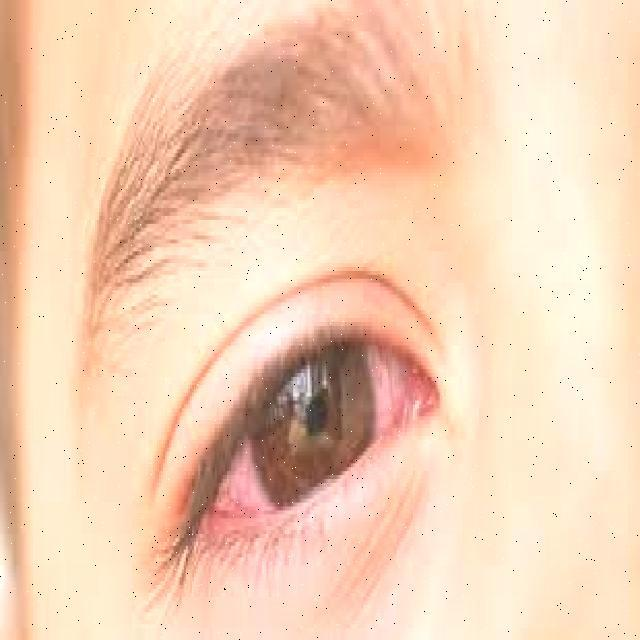Conjunctivitis: (165, 345, 448, 532)
